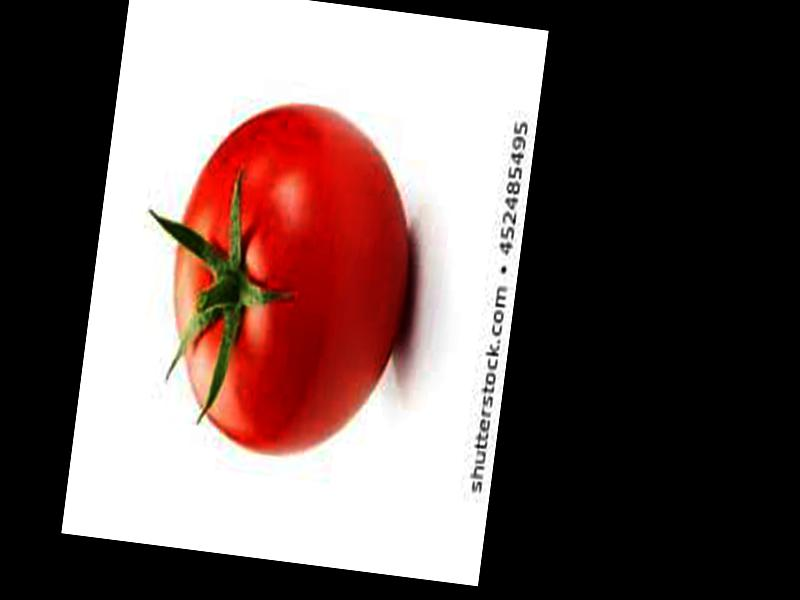Tomato: (154, 95, 429, 464)
